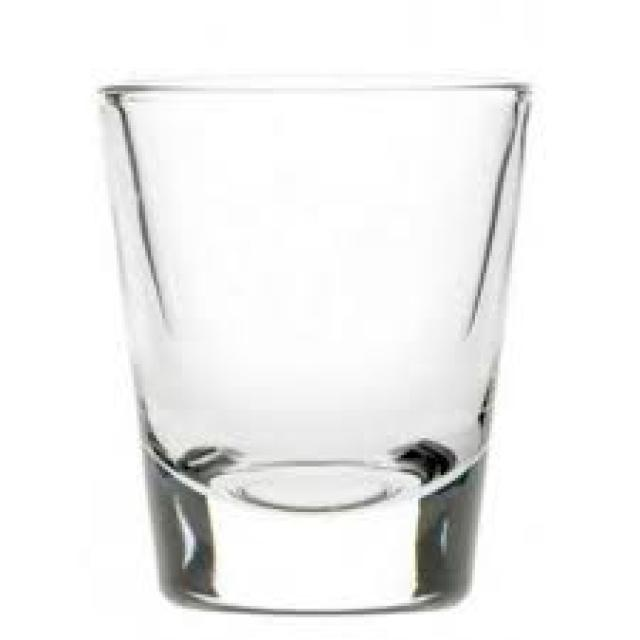Dry: (95, 83, 534, 617)
